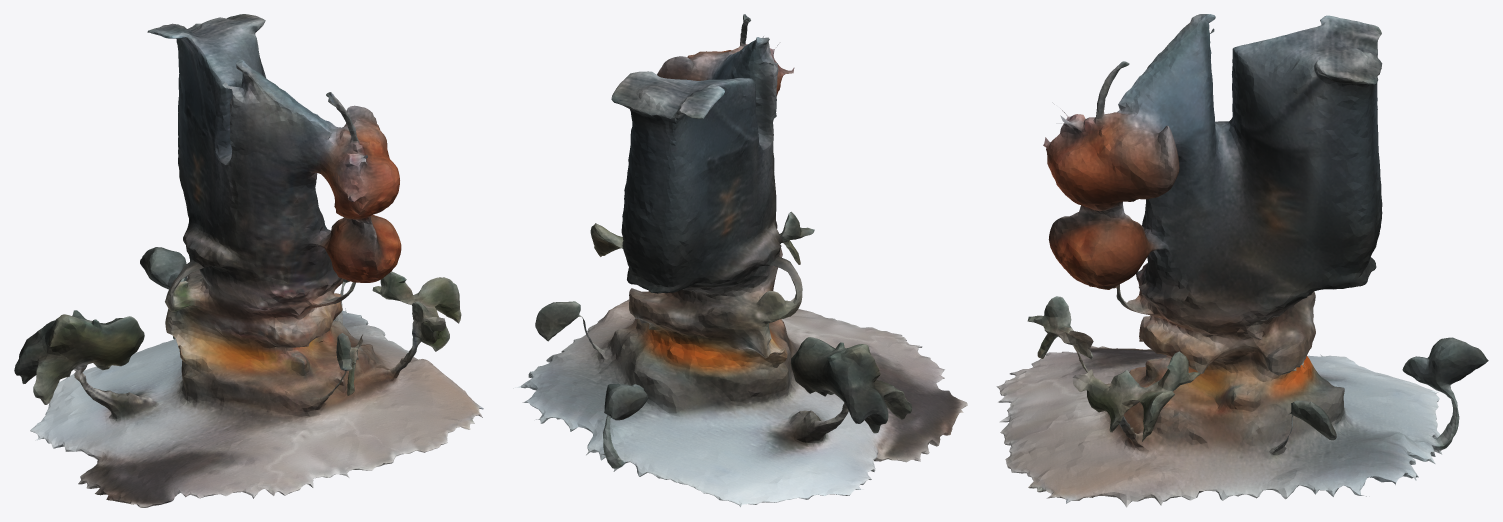
Rendered from calabaza.glb.
The picture shows the model from 3 angles, left to right: view 1: azimuth 30°, elevation 25°; view 2: azimuth 150°, elevation 25°; view 3: azimuth 270°, elevation 25°; orthographic projection. The views are drawn at different scales.
Size of the model in its own units: 0.942 by 0.9261 by 0.9512.
1 material, 1 textured.
